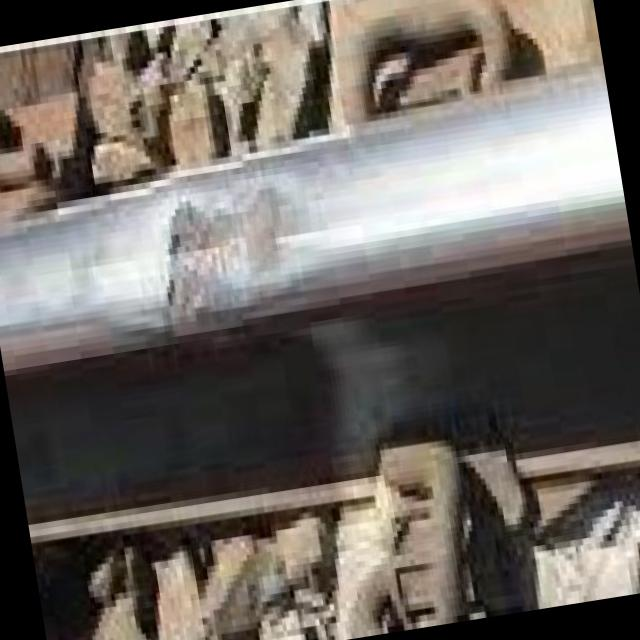defective: (0, 59, 456, 521)
